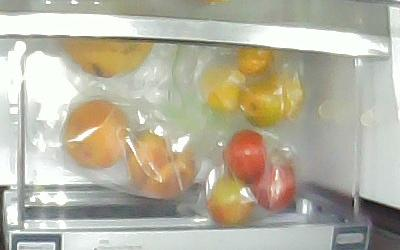peach_vinyl: (65, 101, 129, 169), (127, 131, 174, 188), (144, 150, 196, 199)
pear_vinyl: (60, 39, 154, 77)
tangerine_vinyl: (238, 81, 288, 128), (201, 63, 247, 114), (271, 72, 303, 119), (235, 45, 275, 77)
tomato_vinyl: (250, 153, 296, 212), (222, 130, 266, 185), (207, 173, 250, 224)
